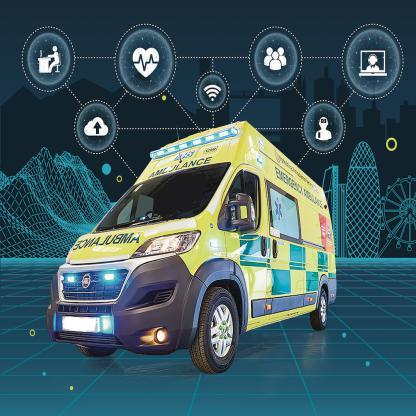Ambulance - v1 Ambulance last generate: (42, 122, 336, 375)
